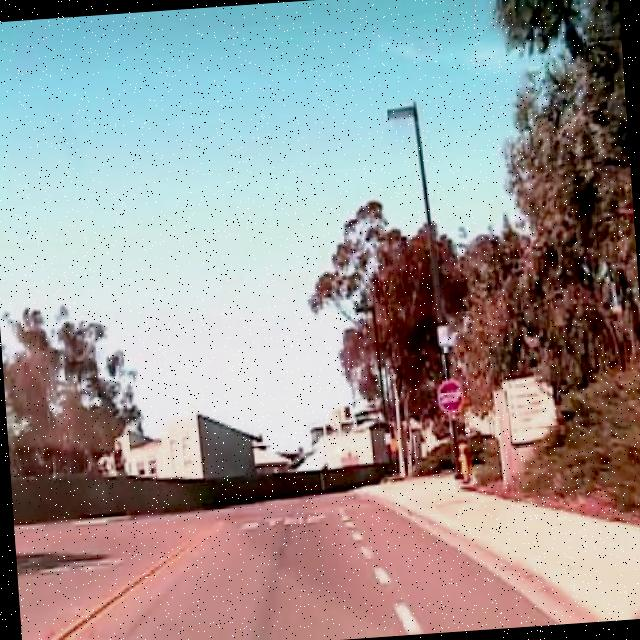Stop: (433, 375, 467, 416)
